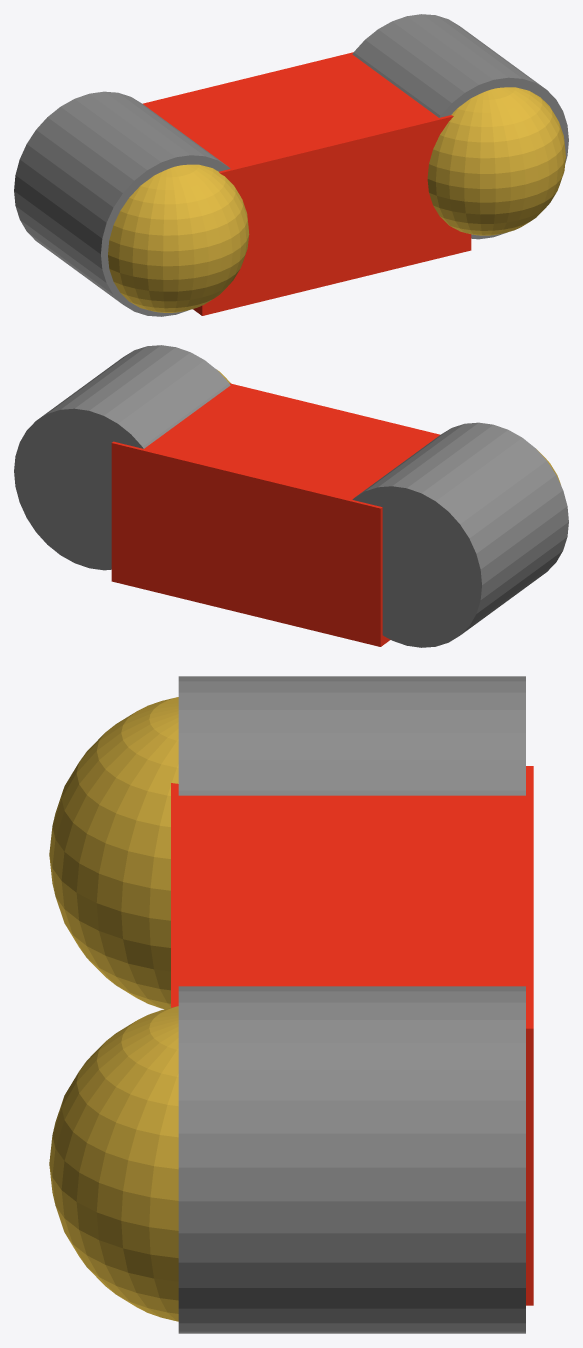
File: track.obj
3 renders of one model, top to bottom at view 1: azimuth 30°, elevation 25°; view 2: azimuth 150°, elevation 25°; view 3: azimuth 270°, elevation 25°, orthographic. The views are drawn at different scales.
Visible parts, largest first — view 1: 球.001; view 2: 球.001; view 3: 球.001.
Part boxes in pixels (x1,y1,x2,y2): 球.001: (14, 14, 568, 316); 球.001: (14, 345, 568, 647); 球.001: (49, 676, 533, 1333).
Bounding box in the file's own units: 1.73 × 0.5762 × 0.7743.
Materials: 1 (1 with a texture image).
